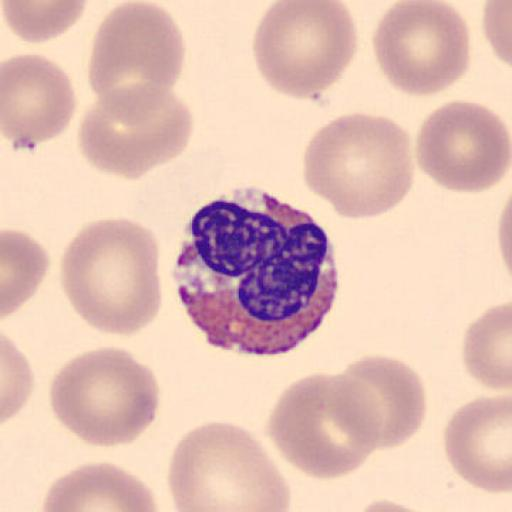RBC: (58, 215, 164, 338), (266, 371, 384, 481), (302, 110, 416, 220), (76, 80, 196, 180), (48, 344, 162, 449), (87, 0, 187, 116), (166, 420, 292, 512), (252, 0, 360, 100), (370, 0, 472, 99), (415, 97, 511, 195), (336, 353, 429, 451), (2, 51, 78, 149), (442, 393, 512, 494), (36, 460, 159, 512), (461, 299, 512, 394), (2, 226, 51, 321), (2, 0, 90, 44), (2, 331, 35, 425), (480, 0, 512, 69), (350, 496, 439, 512), (496, 199, 512, 279)
WBC: (169, 182, 343, 357)
